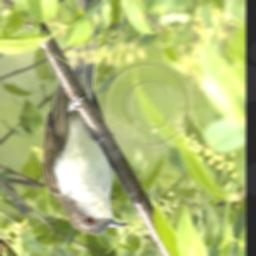Cuckoo: (44, 1, 130, 243)
